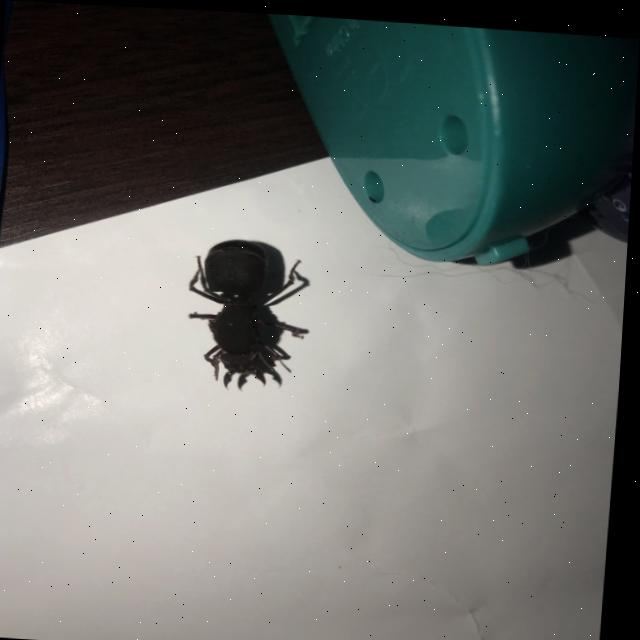Alive-Female-Dealate: (186, 234, 318, 392)
